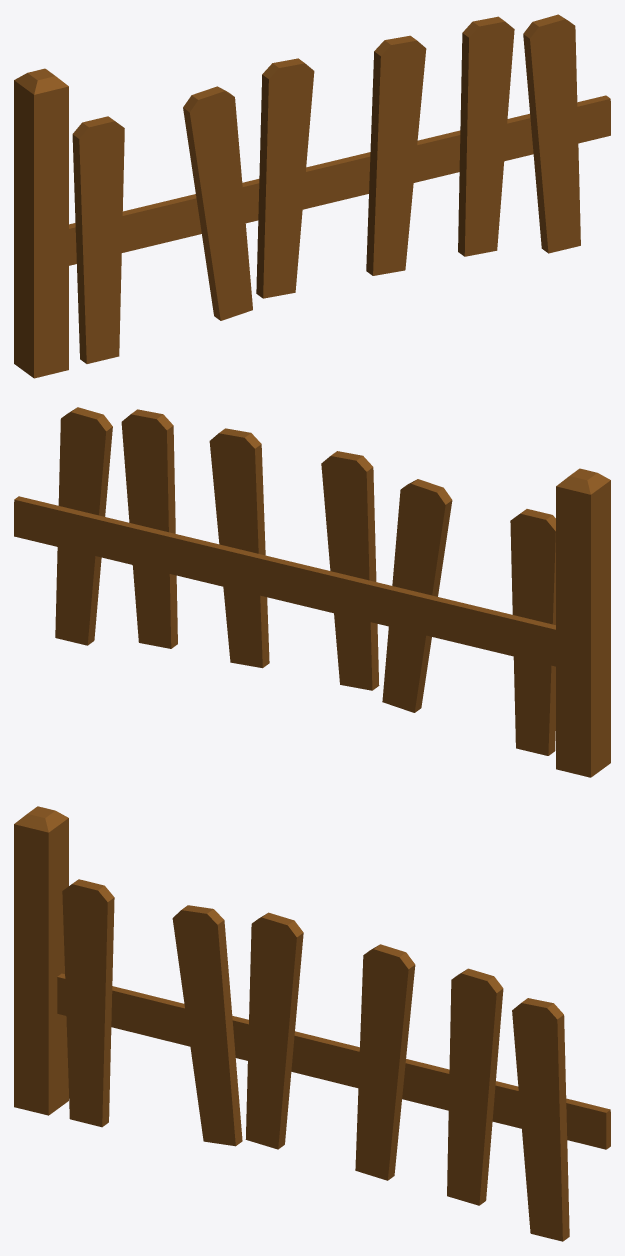
Rendered from Fenc_GameJamAssets.fbx.
The picture shows the model from 3 angles, top to bottom: view 1: azimuth 30°, elevation 25°; view 2: azimuth 150°, elevation 25°; view 3: azimuth 330°, elevation 25°; orthographic projection.
Visible parts, largest first — view 1: Cube.004; view 2: Cube.004; view 3: Cube.004.
Boxes of the visible parts, box(x1,y1,x2,y2) form: Cube.004: box(14, 14, 610, 378); Cube.004: box(14, 407, 610, 777); Cube.004: box(14, 806, 610, 1241).
Size of the model in its own units: 403 by 194 by 24.01.
